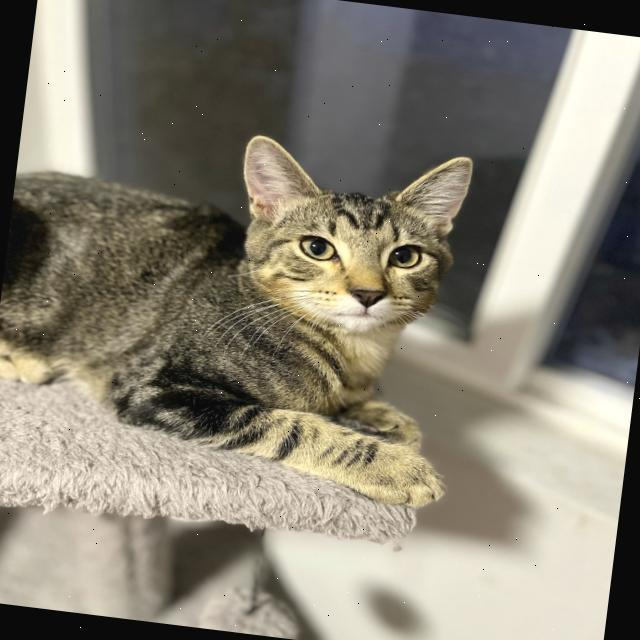american_shorthair_cat: (218, 126, 484, 356)
